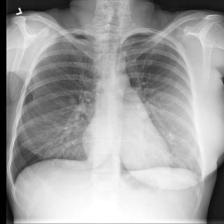normal: (7, 29, 202, 209)
